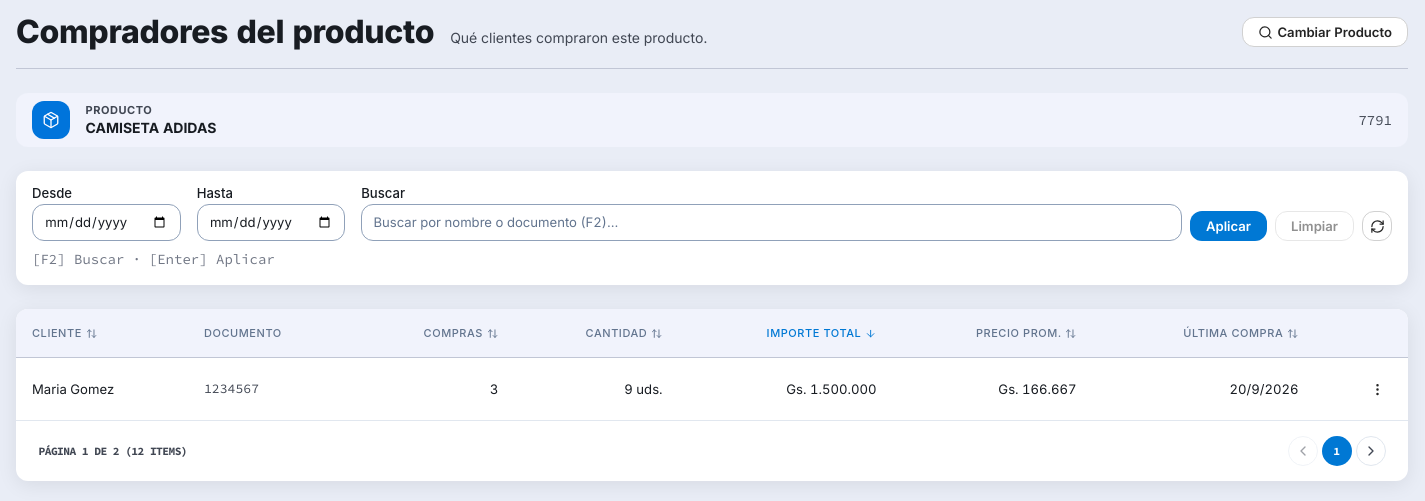
Test: ProductBuyersPage (F3) › un rango Desde > Hasta muestra el aviso y no refetchea
Expected: the text "Maria Gomez" is shown, x1=16 y1=358 x2=188 y2=420
In the date field labelled "Desde": (106, 222) x1=32 y1=204 x2=181 y2=241, type "2026-09-30"
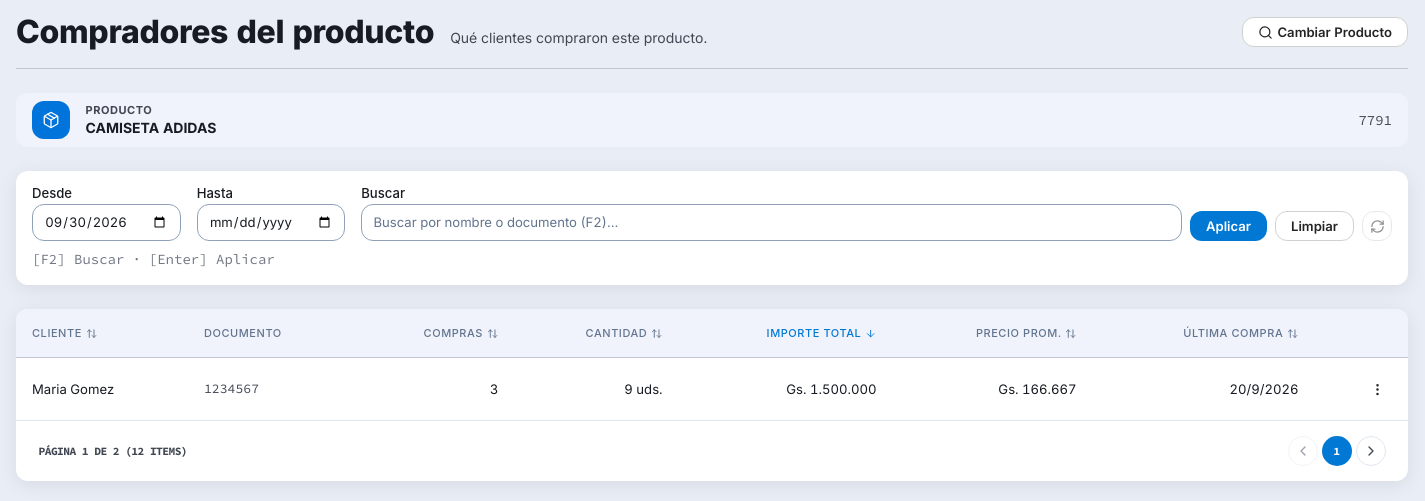
In the date field labelled "Hasta": (271, 222) x1=197 y1=204 x2=345 y2=241, type "2026-09-01"
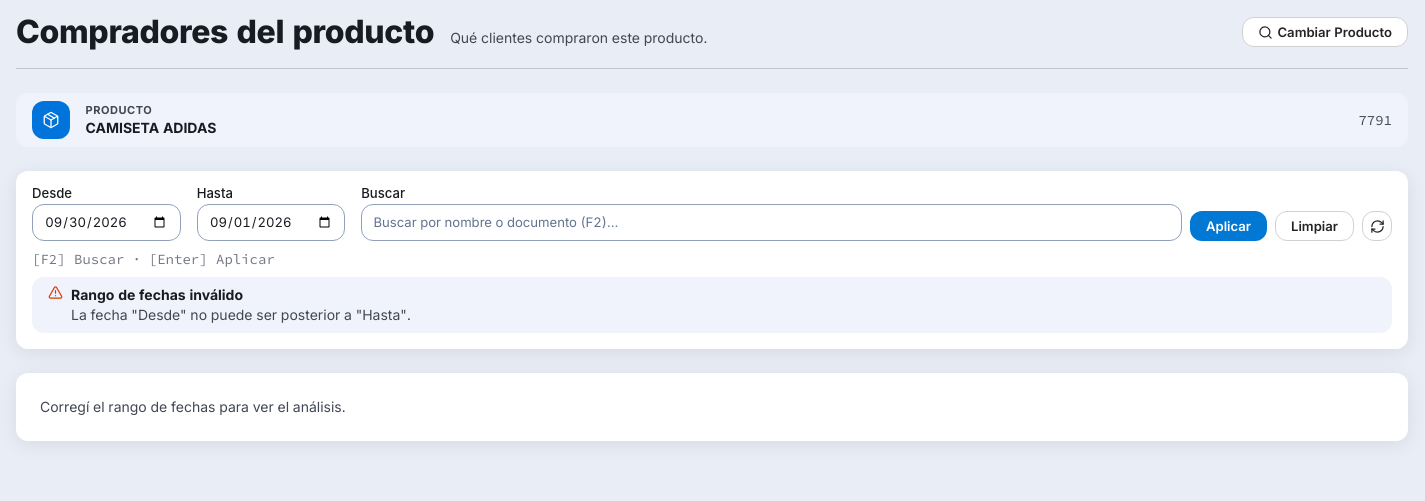
Result: the message shows "Rango de fechas inválido" at x1=71 y1=286 x2=243 y2=303
Result: the message shows "no puede ser posterior" at x1=71 y1=306 x2=411 y2=323
Result: the text "Maria Gomez" is gone
